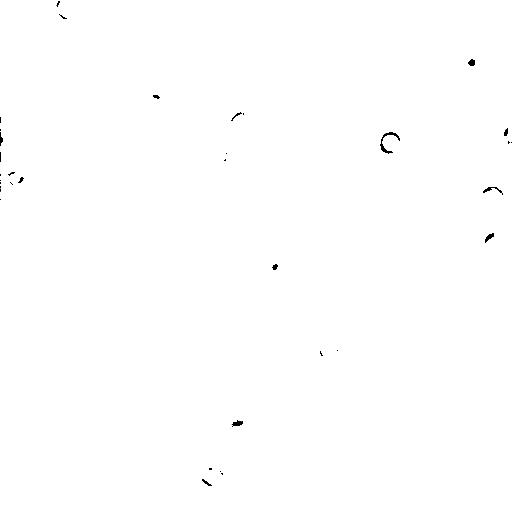micro-algae: (264, 297, 354, 389), (218, 409, 253, 444), (259, 246, 291, 284), (475, 183, 506, 215), (480, 229, 509, 263), (453, 49, 483, 75), (227, 111, 253, 137), (55, 0, 82, 21), (377, 131, 402, 153), (199, 467, 225, 487), (1, 119, 16, 153), (227, 417, 247, 435), (5, 171, 25, 187), (211, 149, 231, 165), (499, 121, 511, 145), (320, 343, 336, 359)
